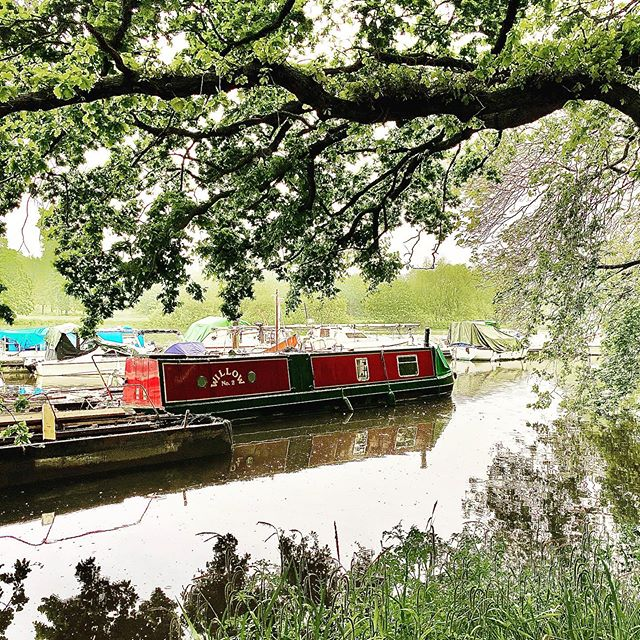boat: (118, 339, 490, 426)
river: (1, 366, 587, 620)
tree: (20, 1, 640, 309)
